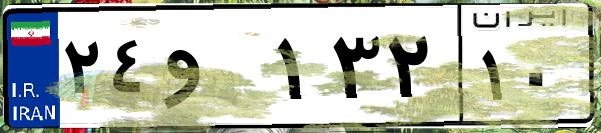0: (525, 38, 570, 115)
1: (270, 28, 330, 110), (475, 38, 525, 113)
2: (385, 28, 445, 110), (57, 26, 110, 100)
3: (330, 28, 385, 110)
4: (110, 28, 158, 98)
و: (158, 20, 270, 120)
